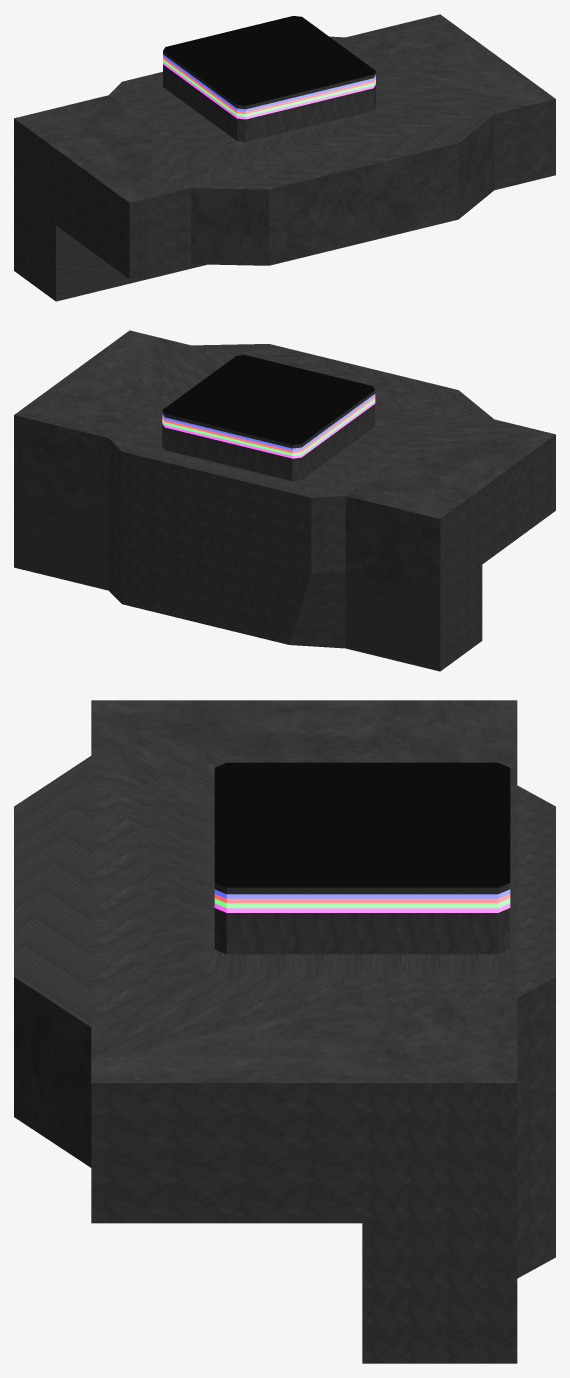
Rendered from Main_Building.glb.
3 views of the same model, one above another, from view 1: azimuth 30°, elevation 25°; view 2: azimuth 150°, elevation 25°; view 3: azimuth 270°, elevation 25° (orthographic). The views are drawn at different scales.
Parts seen in each view (by area): view 1: Main Building.002; view 2: Main Building.002; view 3: Main Building.002.
Part boxes in pixels (box(x1,y1,x2,y2)): Main Building.002: box(14, 14, 555, 301); Main Building.002: box(14, 330, 555, 671); Main Building.002: box(14, 700, 555, 1363).
Size of what is drawn, in the model's own units: 23.4 by 9.9 by 14.
7 materials, 2 textured.
